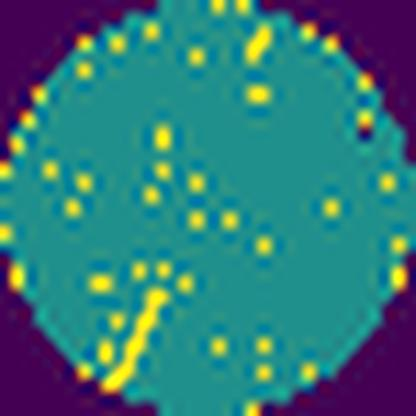Scratch: (97, 280, 174, 396)
